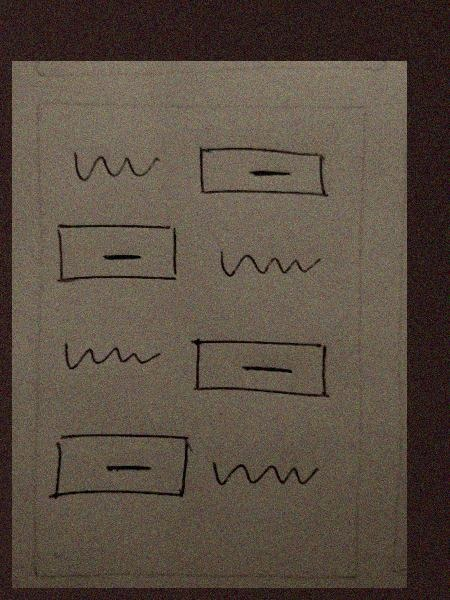button: (46, 425, 198, 503), (189, 333, 331, 401), (192, 142, 336, 205), (50, 221, 193, 284)
text: (206, 448, 321, 494), (215, 237, 325, 281), (60, 328, 163, 372), (64, 144, 162, 189)
